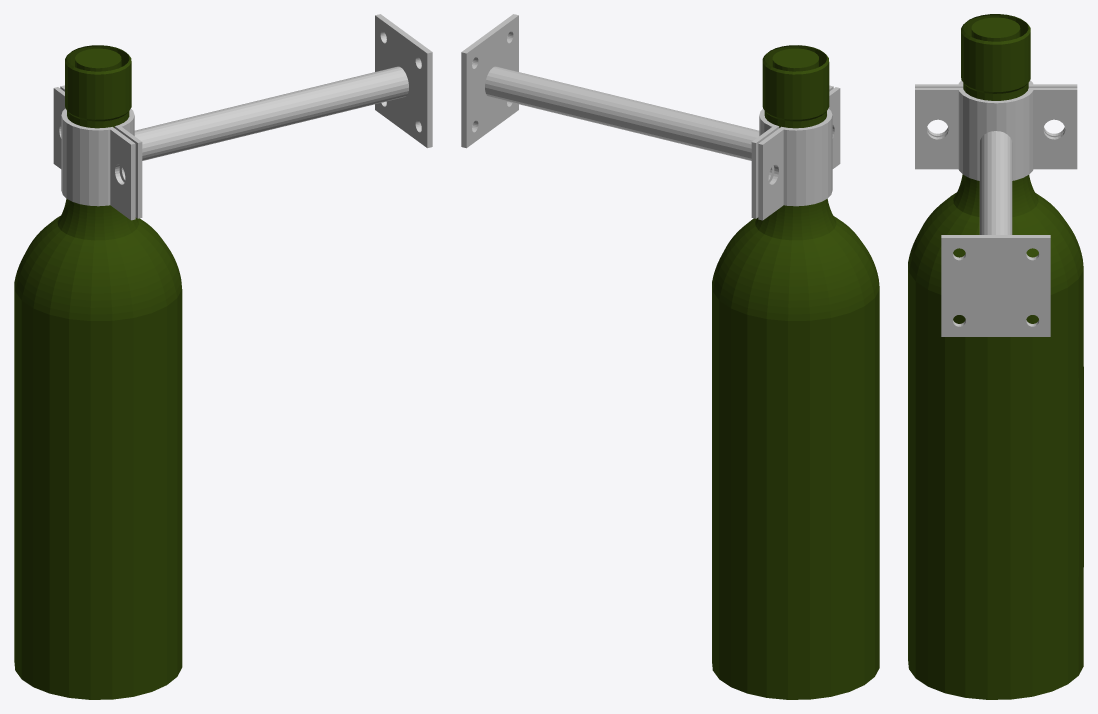
3 views of the same model, side by side, from view 1: azimuth 30°, elevation 25°; view 2: azimuth 150°, elevation 25°; view 3: azimuth 270°, elevation 25° (orthographic). The views are drawn at different scales.
Parts seen in each view (by area): view 1: mesh24.002_mesh24-geometry, mesh35_mesh35-geometry, mesh1.002_mesh1-geometry, mesh12_mesh12-geometry, mesh1.001_mesh1-geometry, mesh26.002_mesh26-geometry; view 2: mesh24.002_mesh24-geometry, mesh22.002_mesh22-geometry, mesh35_mesh35-geometry, mesh1.002_mesh1-geometry, mesh12_mesh12-geometry, mesh1.001_mesh1-geometry, mesh26.002_mesh26-geometry; view 3: mesh24.002_mesh24-geometry, mesh1.001_mesh1-geometry, mesh12_mesh12-geometry, mesh22.002_mesh22-geometry, mesh35_mesh35-geometry, mesh26.002_mesh26-geometry, mesh1.002_mesh1-geometry.
Boxes of the visible parts, <box> form: mesh24.002_mesh24-geometry: <box>14,45,182,699</box>; mesh35_mesh35-geometry: <box>134,66,408,160</box>; mesh1.002_mesh1-geometry: <box>53,87,135,220</box>; mesh12_mesh12-geometry: <box>375,14,432,148</box>; mesh1.001_mesh1-geometry: <box>60,85,142,218</box>; mesh26.002_mesh26-geometry: <box>75,48,121,71</box>; mesh24.002_mesh24-geometry: <box>712,45,879,699</box>; mesh22.002_mesh22-geometry: <box>712,387,830,605</box>; mesh35_mesh35-geometry: <box>485,66,759,160</box>; mesh1.002_mesh1-geometry: <box>758,87,840,220</box>; mesh12_mesh12-geometry: <box>461,14,518,148</box>; mesh1.001_mesh1-geometry: <box>751,85,833,218</box>; mesh26.002_mesh26-geometry: <box>772,48,818,71</box>; mesh24.002_mesh24-geometry: <box>908,14,1083,699</box>; mesh1.001_mesh1-geometry: <box>915,87,1077,180</box>; mesh12_mesh12-geometry: <box>941,235,1050,336</box>; mesh22.002_mesh22-geometry: <box>1052,367,1083,591</box>; mesh35_mesh35-geometry: <box>979,131,1012,234</box>; mesh26.002_mesh26-geometry: <box>971,17,1020,41</box>; mesh1.002_mesh1-geometry: <box>915,80,1077,137</box>.
Size of the model in its own units: 0.538 by 0.8176 by 0.2054.
